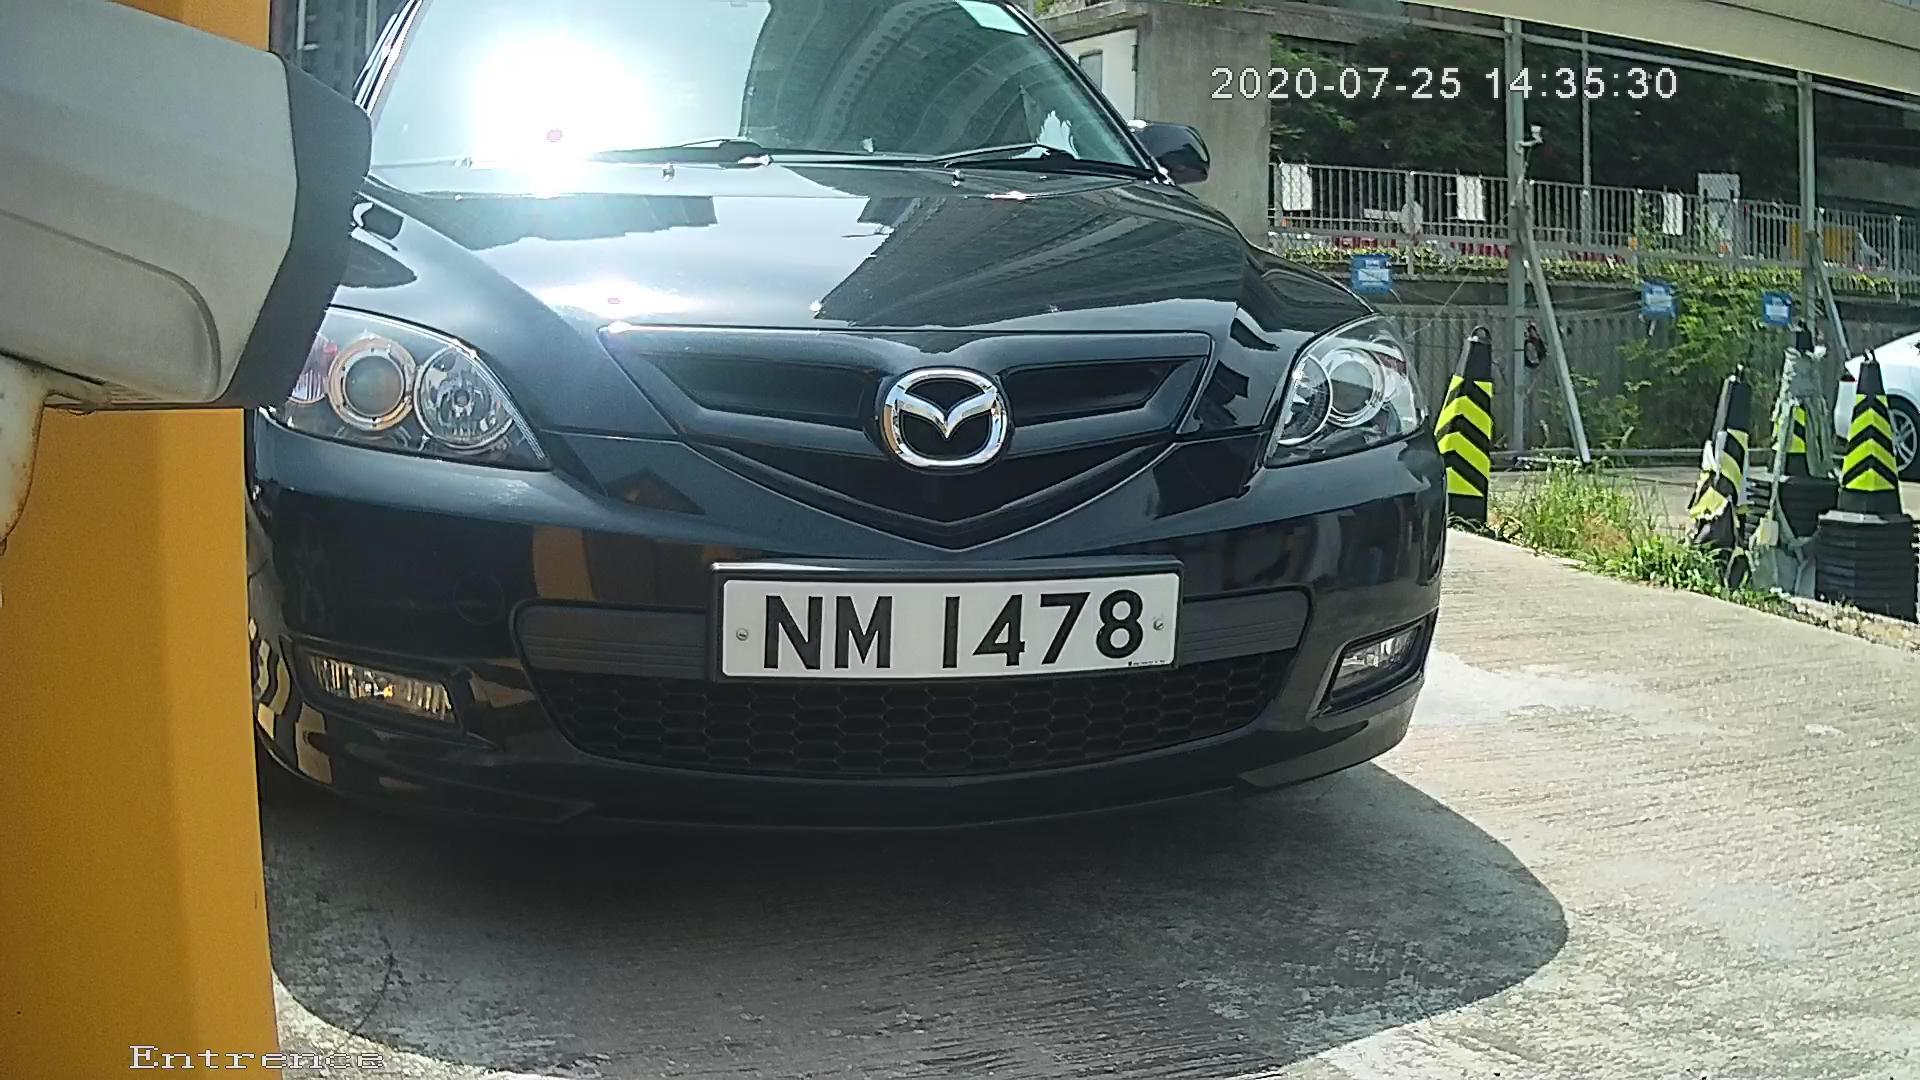Car: (78, 20, 1518, 917)
License Plate: (703, 550, 1192, 709)
